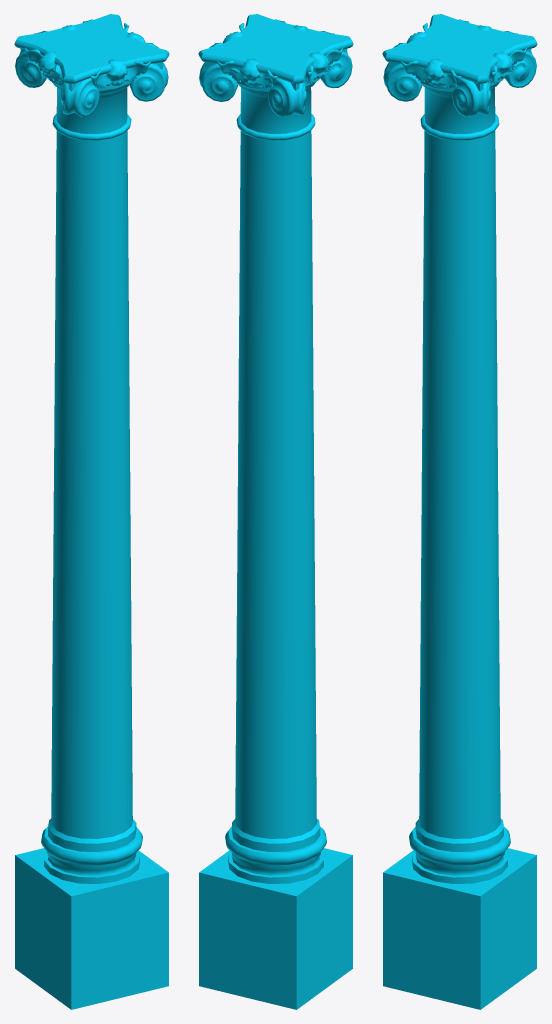
The model's file is Peter_Pillar03.FBX.
The picture shows the model from 3 angles, left to right: view 1: azimuth 30°, elevation 25°; view 2: azimuth 150°, elevation 25°; view 3: azimuth 330°, elevation 25°; orthographic projection.
Visible parts, largest first — view 1: Box006; view 2: Box006; view 3: Box006.
Part boxes in pixels (x1=…): Box006: x1=14, y1=14, x2=169, y2=1009; Box006: x1=198, y1=14, x2=353, y2=1009; Box006: x1=382, y1=14, x2=537, y2=1009.
Size of the model in its own units: 132 by 1106 by 130.
